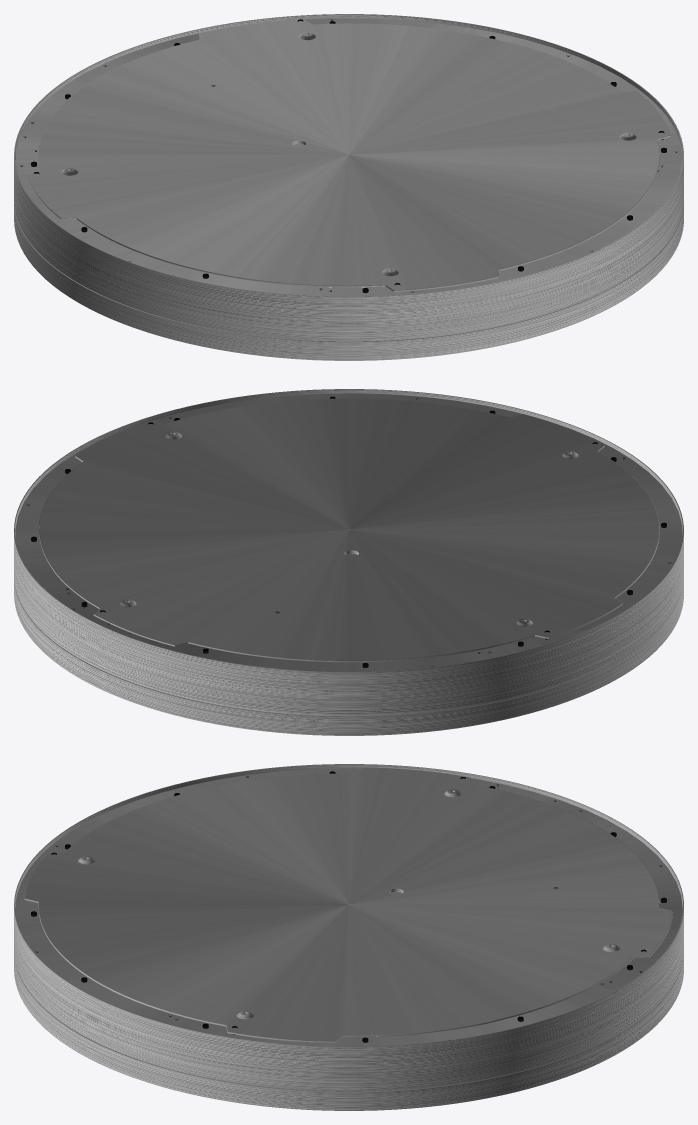
The model's file is AM152_008 Tlon Light 950 Ceiling_satin.obj.
The picture shows the model from 3 angles, top to bottom: view 1: azimuth 30°, elevation 25°; view 2: azimuth 150°, elevation 25°; view 3: azimuth 270°, elevation 25°; orthographic projection.
Visible parts, largest first — view 1: AM152_008_body_s; view 2: AM152_008_body_s; view 3: AM152_008_body_s.
Boxes of the visible parts, <box> form: AM152_008_body_s: <box>14,14,683,360</box>; AM152_008_body_s: <box>14,389,683,735</box>; AM152_008_body_s: <box>14,764,683,1110</box>.
Bounding box in the file's own units: 94.94 × 10.62 × 94.94.
Materials: 3 (1 with a texture image).
